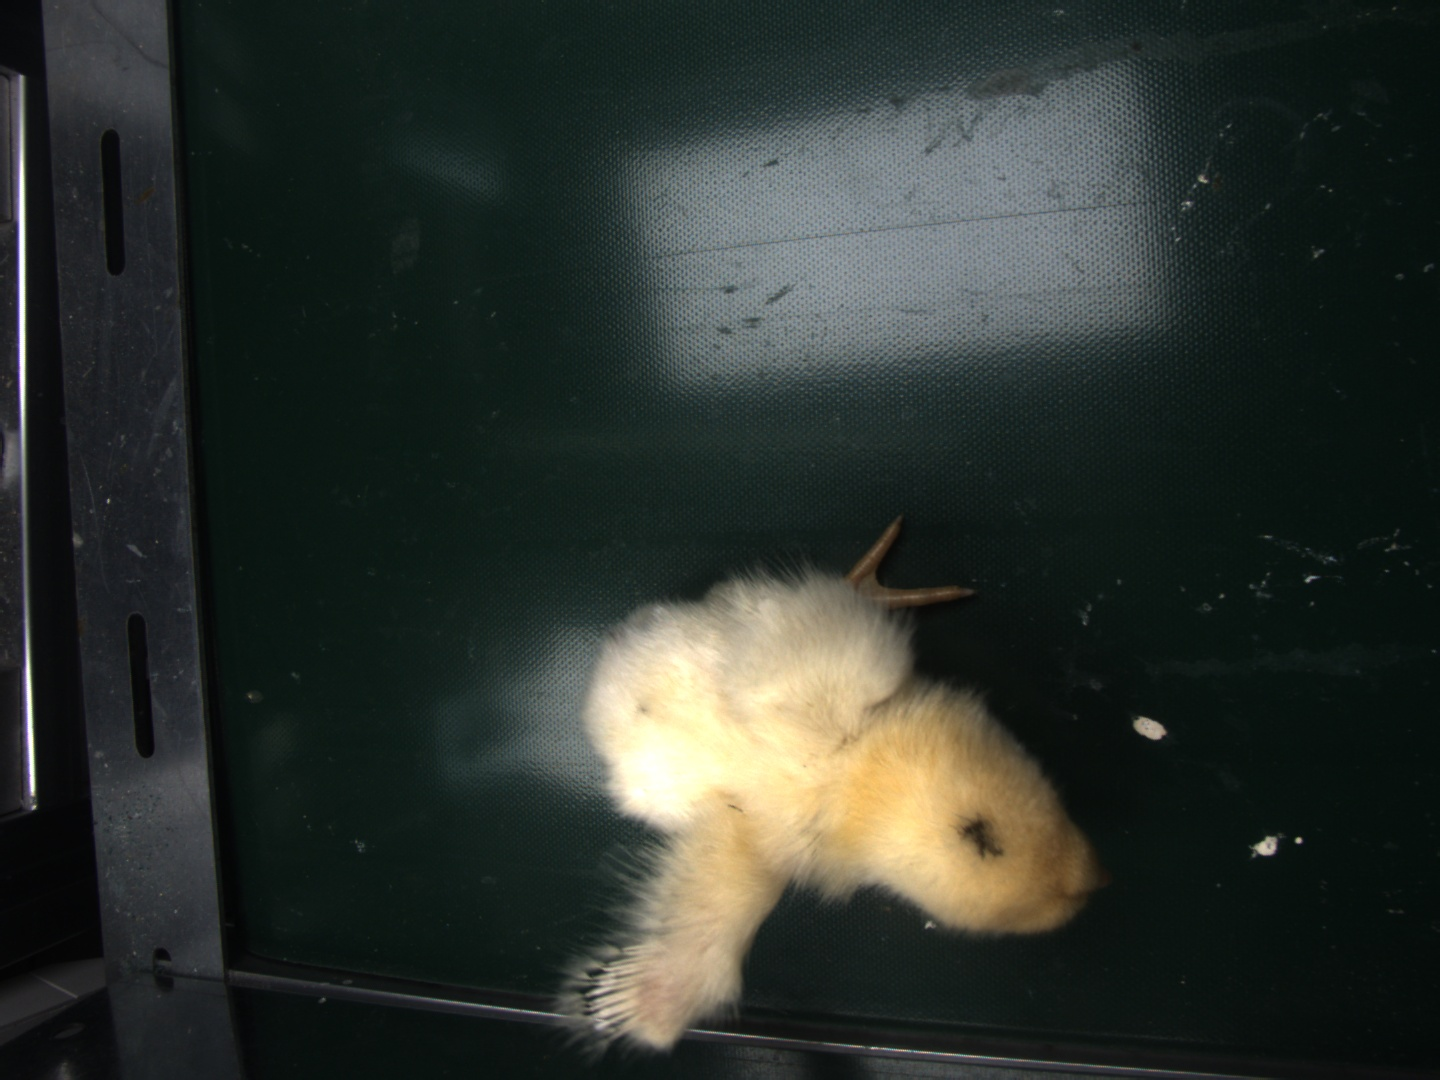male: (584, 953, 642, 1043)
